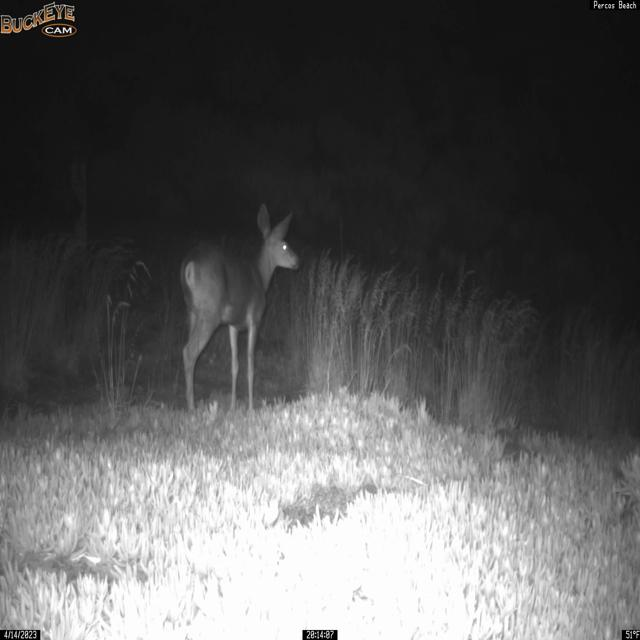deer: (178, 202, 302, 415)
